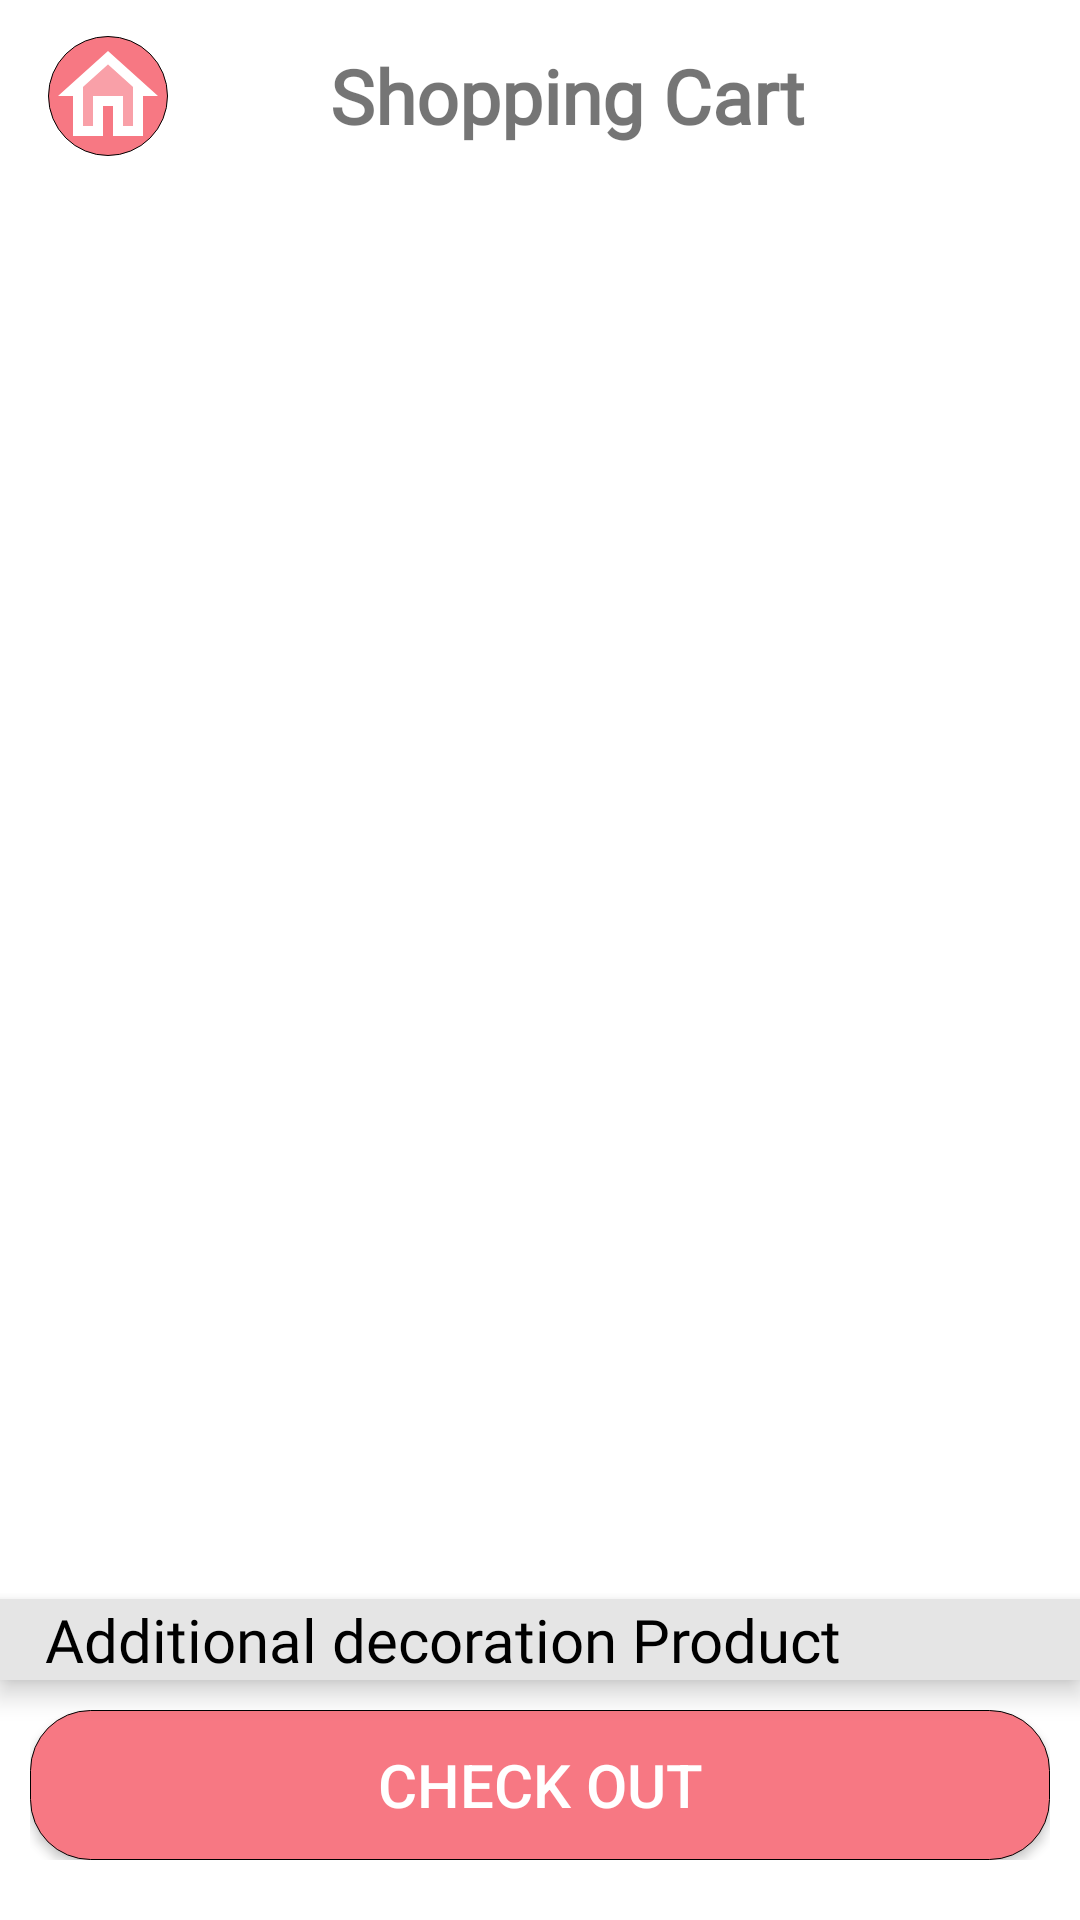

Where to tap for icons on this 1080w x 1920h app screen, as (x=x, y=y):
home: (x=108, y=96)
